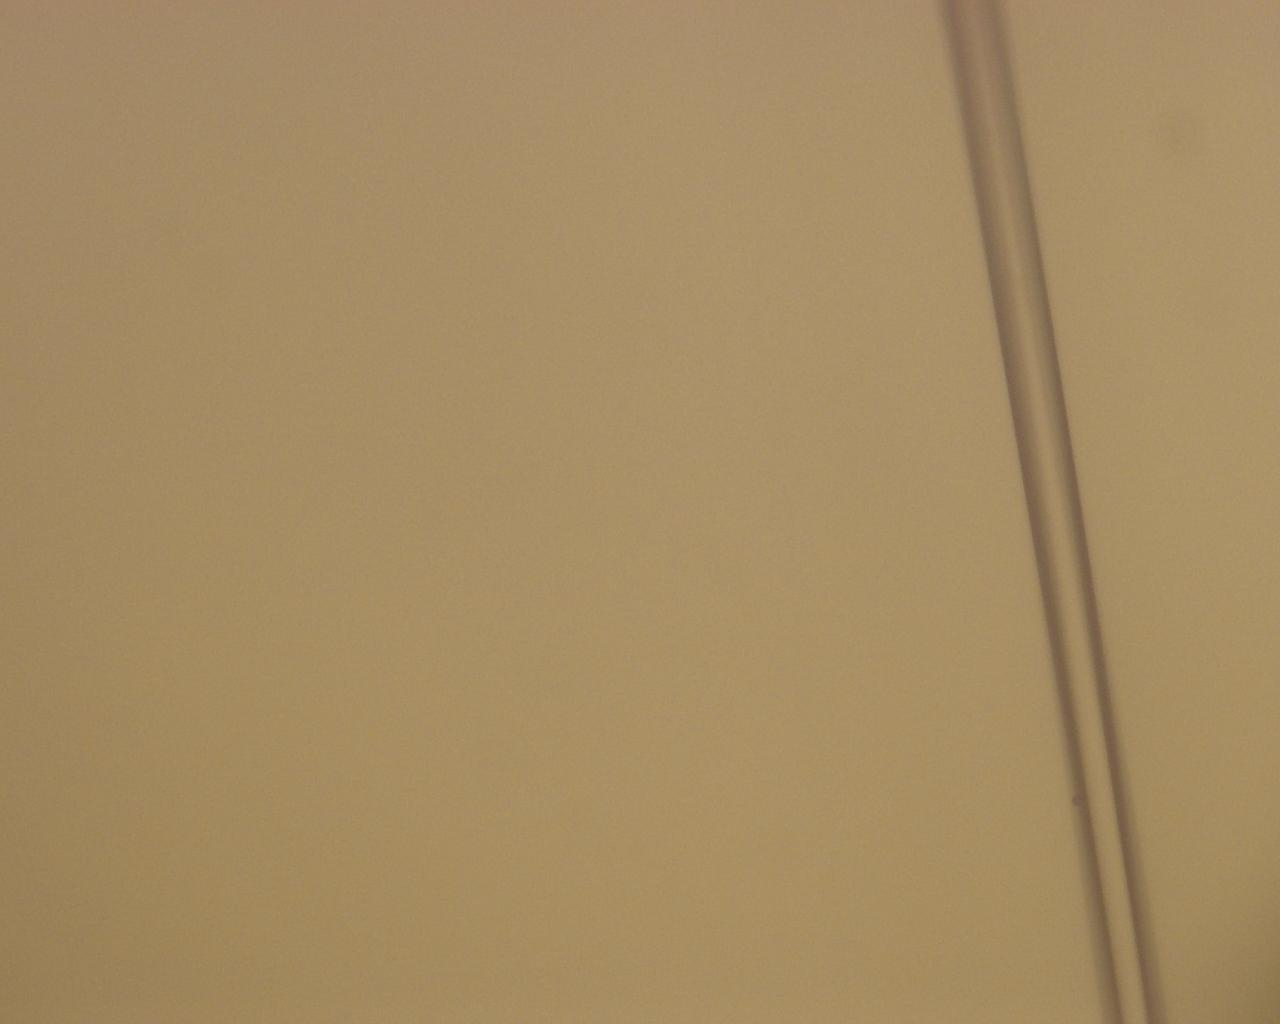fiber: (601, 430, 1143, 908), (180, 430, 398, 1024), (241, 0, 348, 430)
